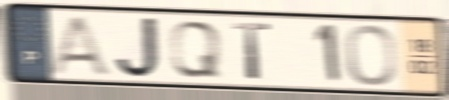1: (311, 22, 343, 86)
A: (46, 14, 116, 79)
J: (112, 14, 163, 80)
O: (343, 23, 399, 88)
Q: (167, 19, 223, 80)
T: (230, 20, 274, 82)
